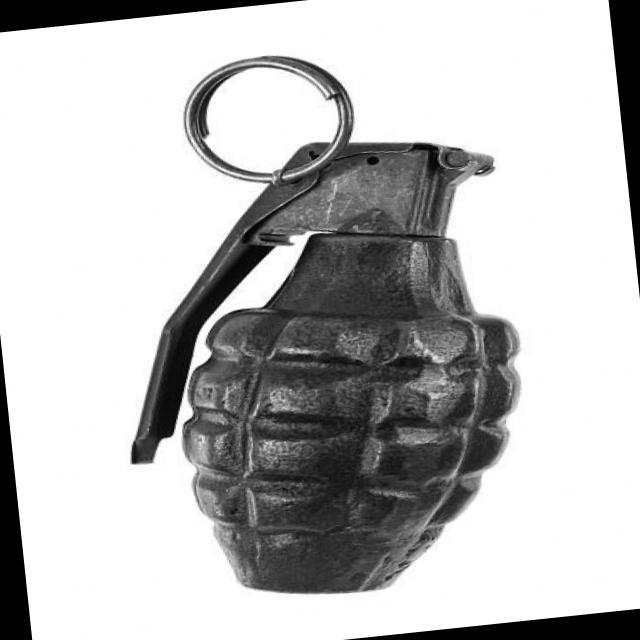grenade: (85, 41, 538, 620)
